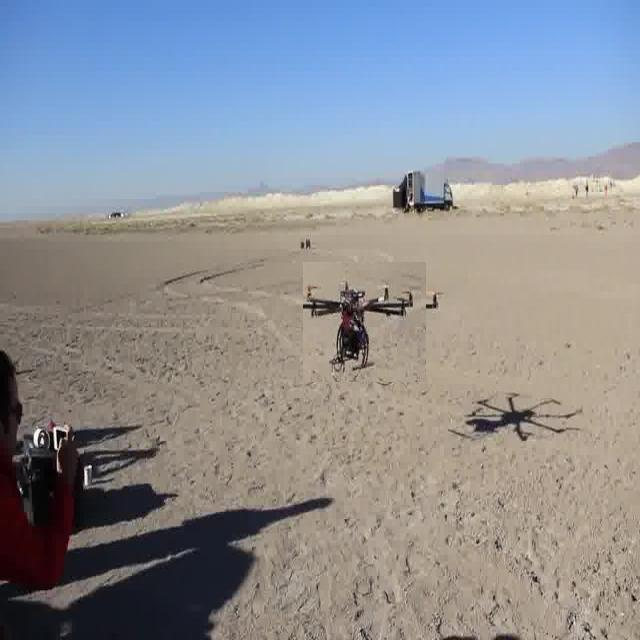drone: (303, 262, 426, 382)
